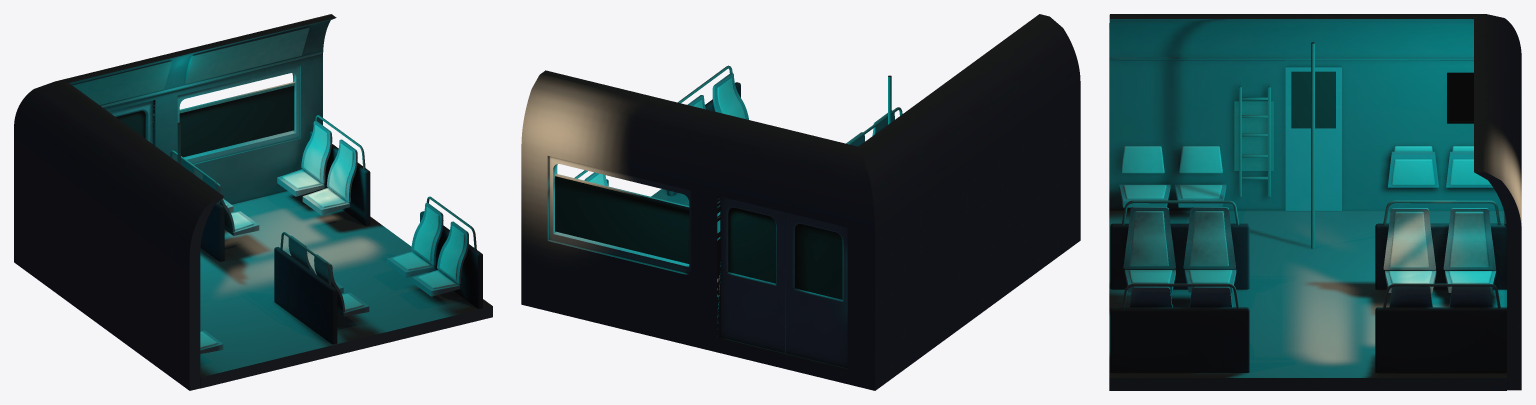
Rendered from Metro.fbx.
3 renders of one model, left to right at view 1: azimuth 30°, elevation 25°; view 2: azimuth 150°, elevation 25°; view 3: azimuth 270°, elevation 25°, orthographic. The views are drawn at different scales.
Parts seen in each view (by area): view 1: Murs_1, SOL_1, Murets_1, Assises_1, Vitres_1, Coussins_1, Panneau_2_1, Portes_fenetres_1, Panneau_1_1, barres_de_Fer_1; view 2: Murs_1, Portes_fenetres_1, Vitres_1, barres_de_Fer_1, Assises_1, Coussins_1; view 3: Murs_1, SOL_1, Murets_1, Coussins_1, Assises_1, barres_de_Fer_1, Portes_fenetres_1, Vitres_1, Publicité_1.
Part boxes in pixels (box(x1,y1,x2,y2)): Murs_1: box(14, 14, 336, 390); SOL_1: box(200, 190, 492, 388); Murets_1: box(200, 130, 482, 344); Assises_1: box(177, 121, 468, 353); Vitres_1: box(116, 85, 294, 157); Coussins_1: box(200, 124, 465, 348); Panneau_2_1: box(185, 26, 309, 84); Portes_fenetres_1: box(108, 66, 299, 163); Panneau_1_1: box(72, 60, 171, 104); barres_de_Fer_1: box(170, 82, 476, 286); Murs_1: box(521, 14, 1080, 390); Portes_fenetres_1: box(549, 156, 847, 368); Vitres_1: box(555, 176, 842, 299); barres_de_Fer_1: box(555, 65, 902, 208); Assises_1: box(584, 73, 894, 186); Coussins_1: box(589, 77, 745, 185); Murs_1: box(1109, 14, 1521, 390); SOL_1: box(1109, 210, 1506, 390); Murets_1: box(1110, 223, 1506, 373); Coussins_1: box(1121, 146, 1492, 283); Assises_1: box(1119, 151, 1496, 307); barres_de_Fer_1: box(1121, 42, 1500, 308); Portes_fenetres_1: box(1285, 66, 1341, 210); Vitres_1: box(1291, 71, 1335, 128); Publicité_1: box(1447, 72, 1473, 123).
Bounding box in the file's own units: 590 × 346 × 592.
